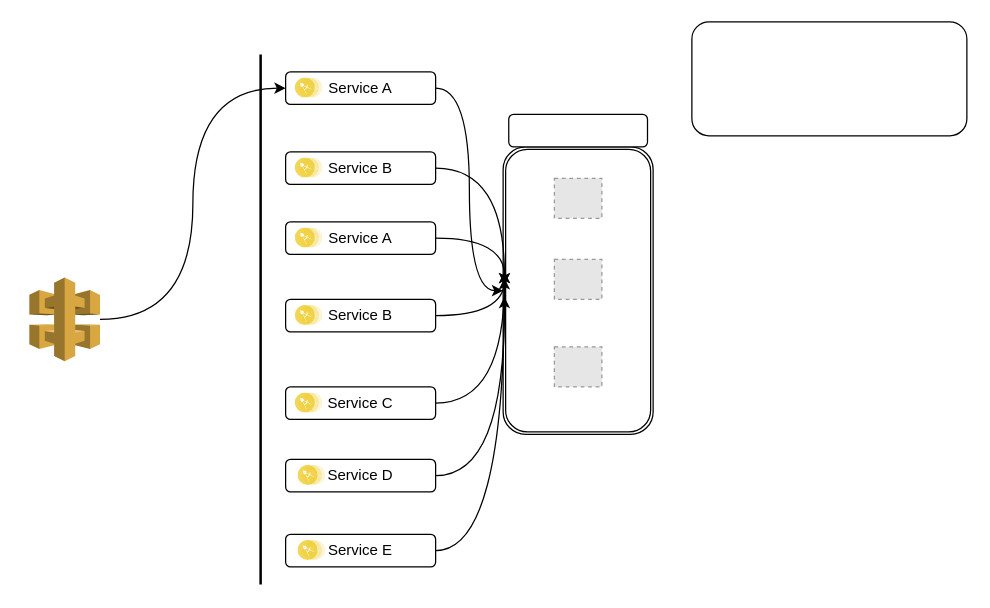
The diagram is 990 pixels wide and 608 high, and some of its shapes have lost their labels. Grey dashed boxes stand in for pictures. The centre of each missing label's shape, as x and y in pixels:
API Gateway: (x=64, y=318)
Key value lookup: userId: HashMap implementation: (x=829, y=78)
Redis Distributed Cache cluster: (x=578, y=130)
